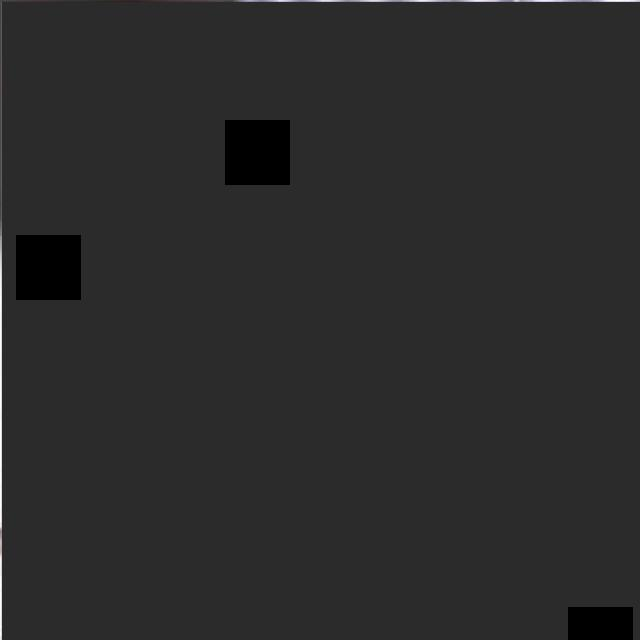smoke: (1, 2, 640, 640)
